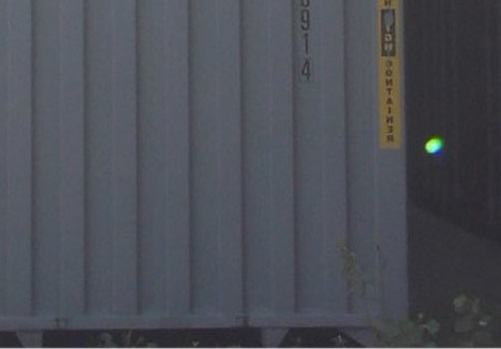container_no_door: (5, 1, 408, 344)
